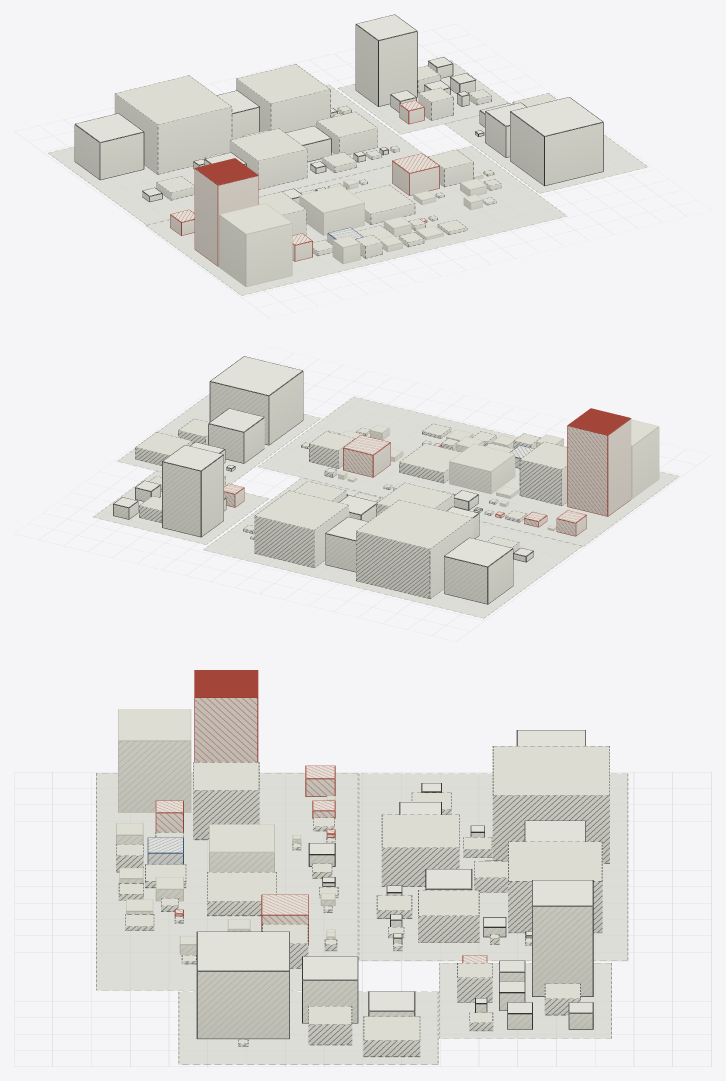
The model's file is city.glb.
3 views of the same model, one above another, from view 1: azimuth 30°, elevation 25°; view 2: azimuth 150°, elevation 25°; view 3: azimuth 270°, elevation 25° (orthographic). The views are drawn at different scales.
Parts seen in each view (by area): view 1: ground, annex-1, mass-11, mass-40, mass-5, annex-2, mass-12, mass-1, annex-38, mass-15, annex-31, mass-35 (+13 smaller); view 2: ground, annex-1, mass-12, mass-11, annex-2, mass-5, mass-1, annex-12, mass-15, mass-10, mass-40, mass-35 (+11 smaller); view 3: ground, annex-1, mass-11, mass-40, mass-5, mass-12, annex-2, annex-38, annex-12, annex-31, mass-15, mass-10 (+23 smaller).
Boxes of the visible parts, left/top/right/bottom form: ground: left=39, top=60, right=673, bottom=295; annex-1: left=114, top=75, right=232, bottom=174; mass-11: left=510, top=97, right=603, bottom=186; mass-40: left=219, top=203, right=292, bottom=286; mass-5: left=355, top=14, right=417, bottom=106; annex-2: left=236, top=64, right=330, bottom=132; mass-12: left=194, top=158, right=258, bottom=266; mass-1: left=74, top=113, right=144, bottom=180; annex-38: left=229, top=128, right=307, bottom=189; mass-15: left=299, top=185, right=364, bottom=235; annex-31: left=316, top=111, right=377, bottom=154; mass-35: left=392, top=153, right=439, bottom=195; ground: left=39, top=363, right=679, bottom=631; annex-1: left=356, top=499, right=473, bottom=598; mass-12: left=567, top=408, right=631, bottom=516; mass-11: left=209, top=356, right=303, bottom=445; annex-2: left=254, top=490, right=348, bottom=567; mass-5: left=162, top=445, right=223, bottom=537; mass-1: left=444, top=537, right=513, bottom=604; annex-12: left=519, top=441, right=567, bottom=505; mass-15: left=449, top=444, right=515, bottom=494; mass-10: left=208, top=408, right=264, bottom=463; mass-40: left=631, top=419, right=659, bottom=498; mass-35: left=343, top=435, right=390, bottom=477; ground: left=14, top=772, right=711, bottom=1066; annex-1: left=492, top=746, right=609, bottom=863; mass-11: left=196, top=931, right=289, bottom=1038; mass-40: left=118, top=709, right=191, bottom=812; mass-5: left=532, top=880, right=593, bottom=996; mass-12: left=194, top=670, right=258, bottom=762; annex-2: left=508, top=841, right=602, bottom=932; annex-38: left=381, top=814, right=459, bottom=886; annex-12: left=193, top=762, right=259, bottom=839; annex-31: left=418, top=890, right=479, bottom=942; mass-15: left=209, top=824, right=274, bottom=871; mass-10: left=302, top=956, right=358, bottom=1023.
Size of what is drawn, in the model's own units: 920 by 162 by 920.
Materials: 71 (7 with a texture image).
